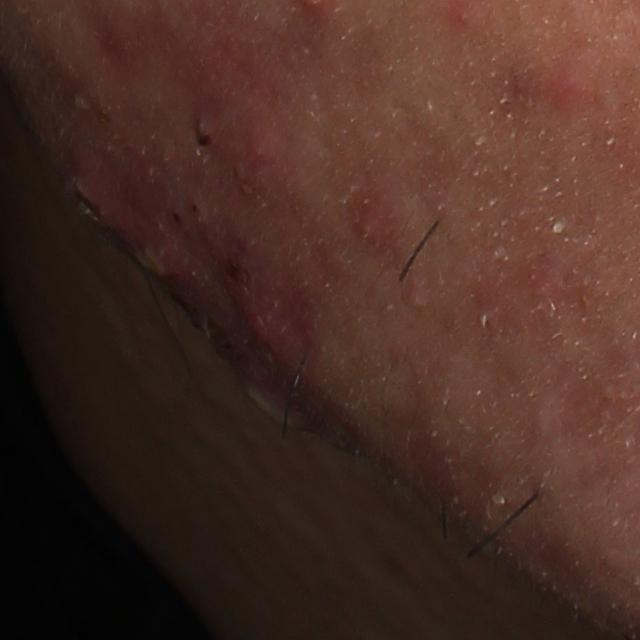comedo: (194, 122, 222, 149)
nodule: (66, 143, 195, 298)
papule: (229, 246, 300, 380), (225, 98, 288, 197), (347, 193, 391, 257), (549, 61, 596, 107)
